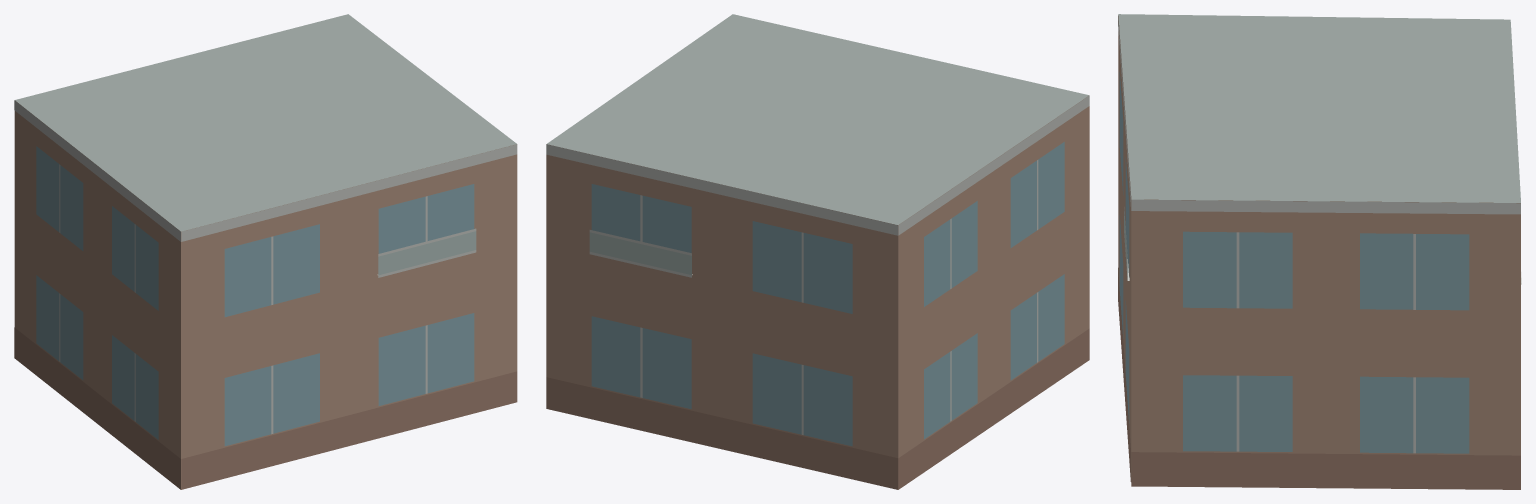
File: survey-upis-32487397.glb
3 renders of one model, left to right at view 1: azimuth 30°, elevation 25°; view 2: azimuth 150°, elevation 25°; view 3: azimuth 270°, elevation 25°, orthographic. The views are drawn at different scales.
Visible parts, largest first — view 1: survey-upis-32487397.tmp; view 2: survey-upis-32487397.tmp; view 3: survey-upis-32487397.tmp.
Boxes of the visible parts, x1,y1,x2,y2 form: survey-upis-32487397.tmp: (14, 14, 517, 489); survey-upis-32487397.tmp: (546, 14, 1089, 489); survey-upis-32487397.tmp: (1118, 14, 1521, 489).
Bounding box in the file's own units: 8.63 × 6.1 × 7.78.
